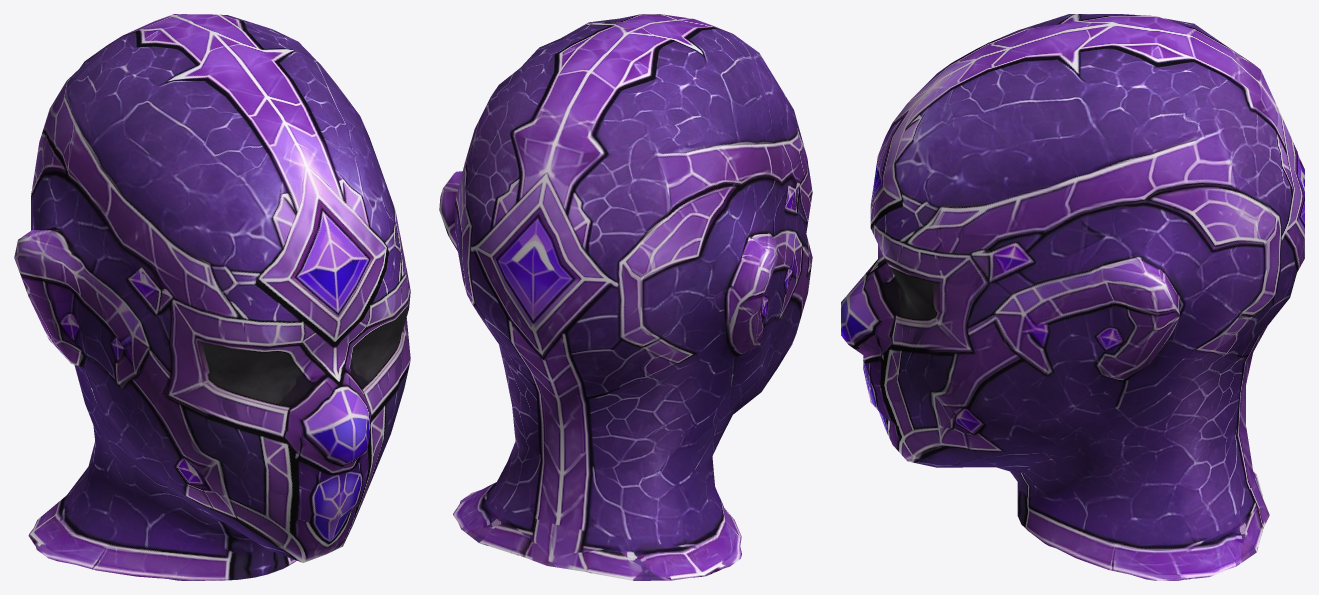
Rendered from TungstenHelmet.glb.
3 renders of one model, left to right at view 1: azimuth 30°, elevation 25°; view 2: azimuth 150°, elevation 25°; view 3: azimuth 270°, elevation 25°, orthographic. The views are drawn at different scales.
Size of the model in its own units: 1.44 by 2 by 1.72.
Materials: 1 (1 with a texture image).
